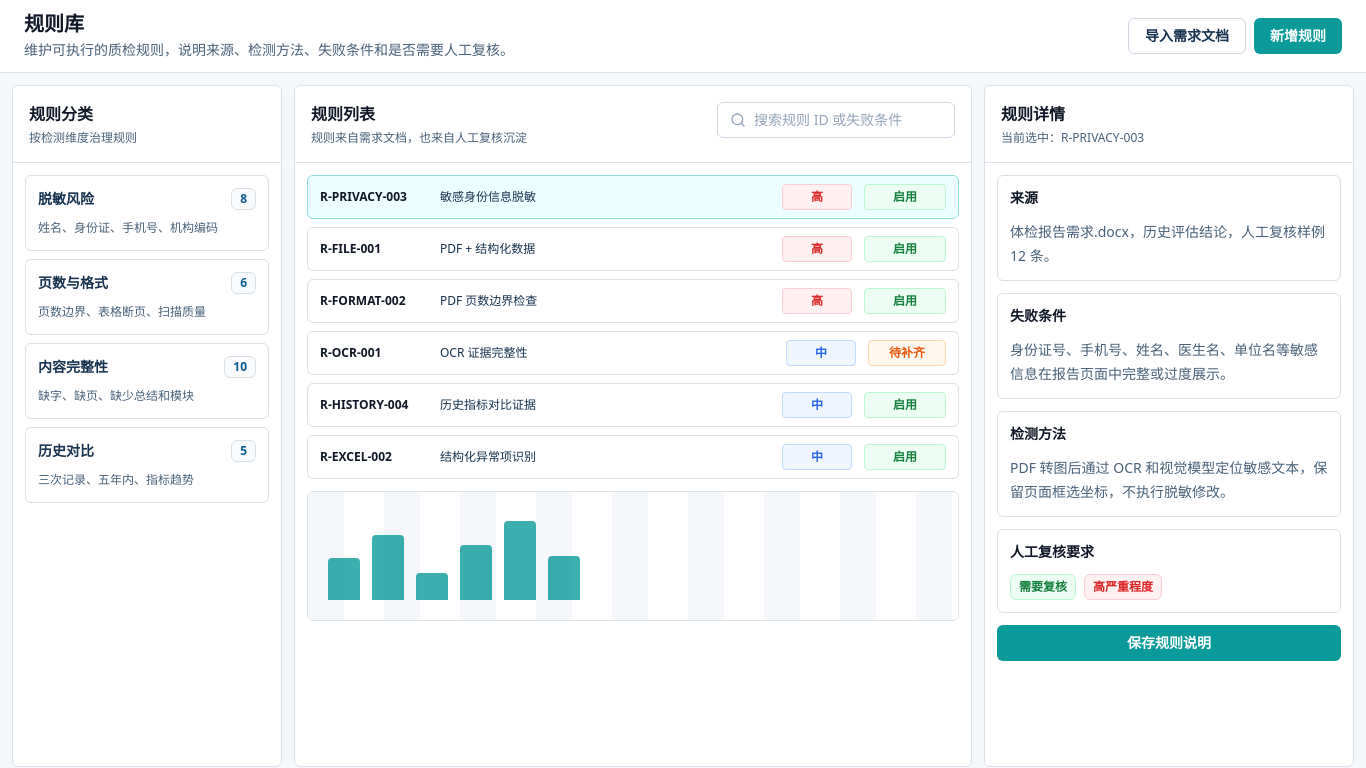
knowledge page › supports compact rule library interactions
Click the button "历史对比 5 三次记录、五年内、指标趋势" at (147, 465), box [25,427,269,503]
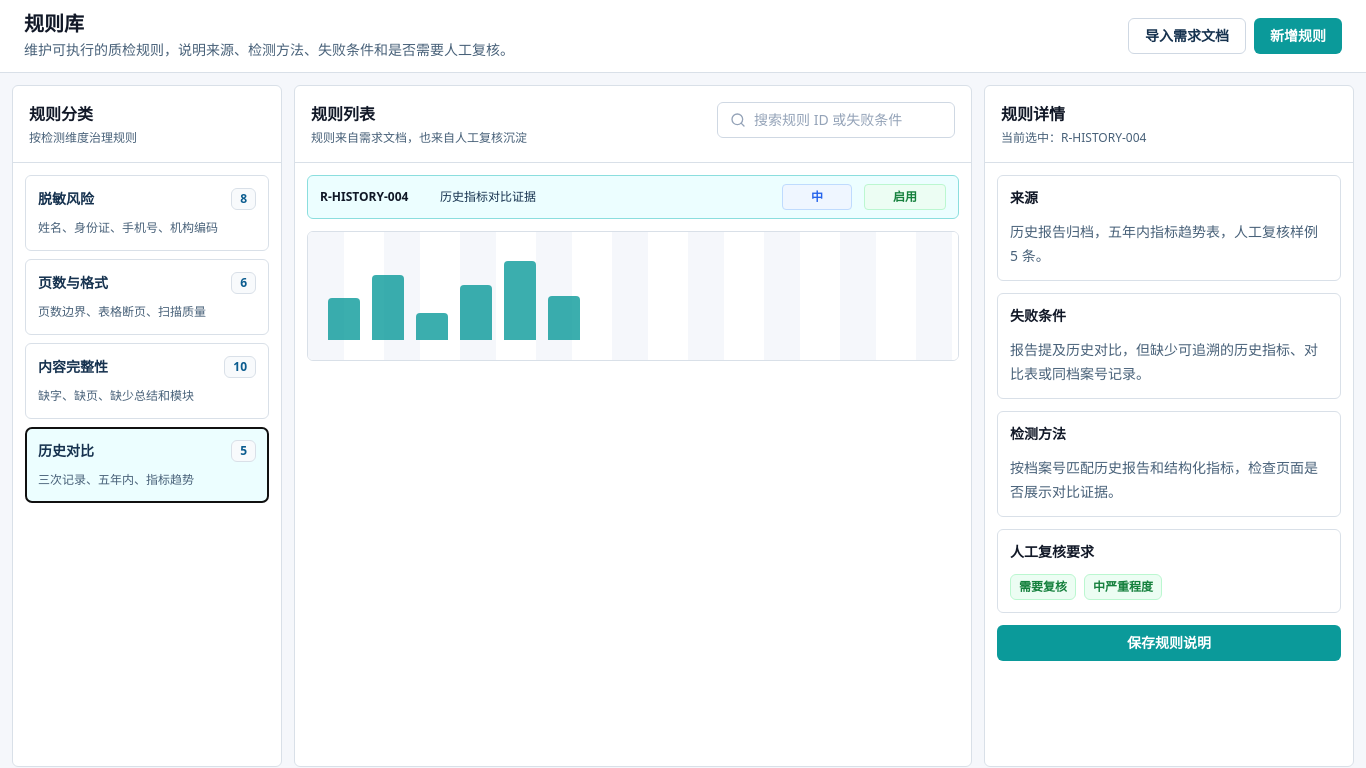
expect the button with aria-label "查看规则 R-HISTORY-004" is shown: met, box [320,189,770,205]
expect the button "R-PRIVACY-003" is gone: met
Type "OCR" into the field labelled "搜索规则" at (848, 120), box [754,110,942,130]
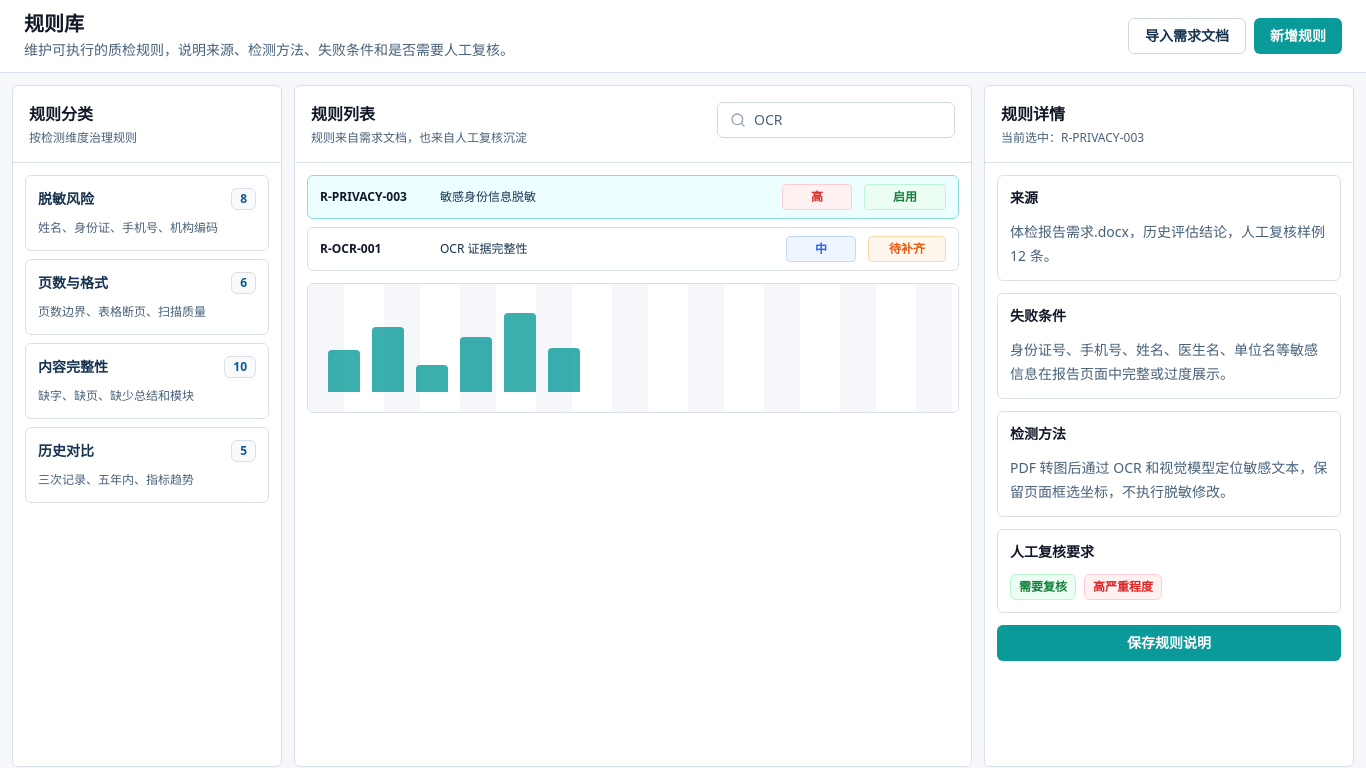
expect the button with aria-label "查看规则 R-OCR-001" is shown: met
Click the button with aria-label "查看规则 R-OCR-001" at (351, 248), box [320,241,774,257]
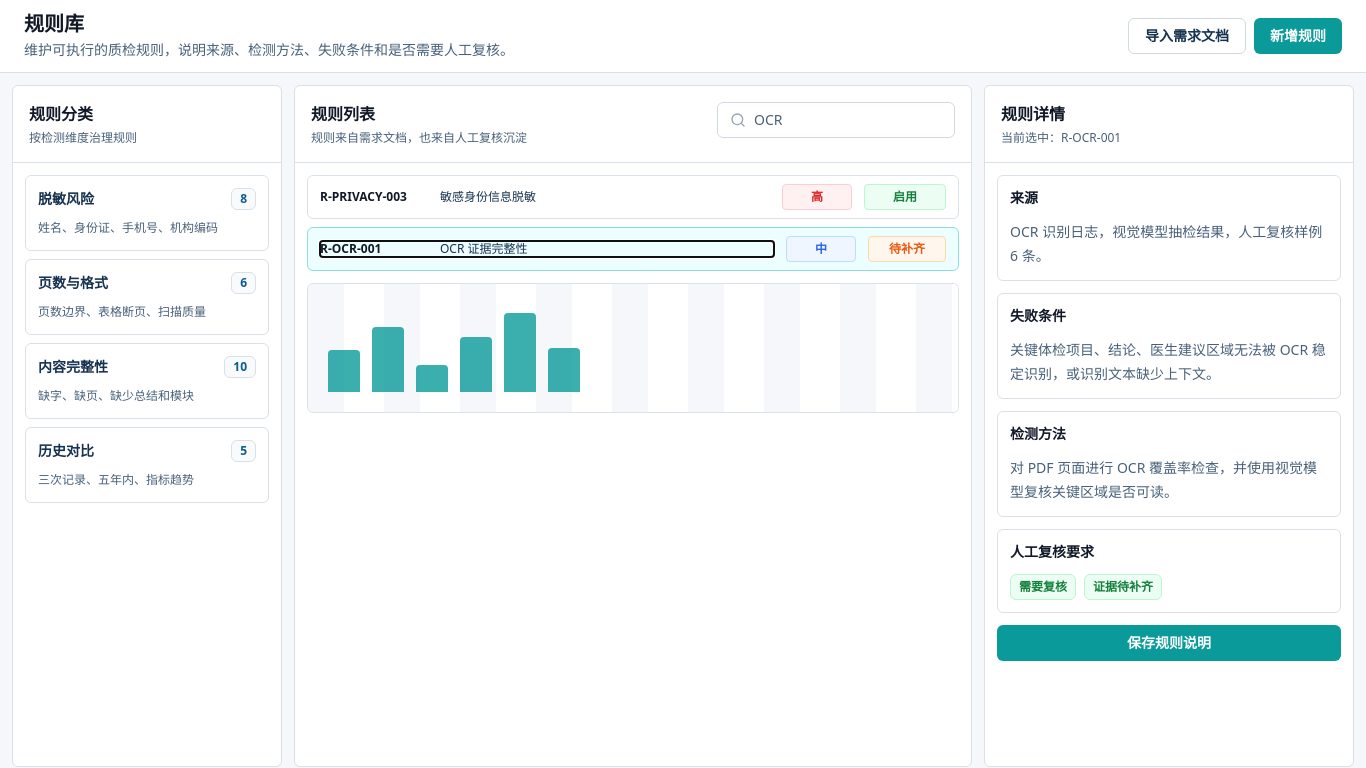
expect the text "OCR 证据完整性" is shown: met, box [440,240,528,257]
expect the text "当前选中：R-OCR-001" is shown: met, box [1001,129,1121,146]
Click the button with aria-label "切换 R-OCR-001 状态" at (907, 249), box [868,236,946,262]
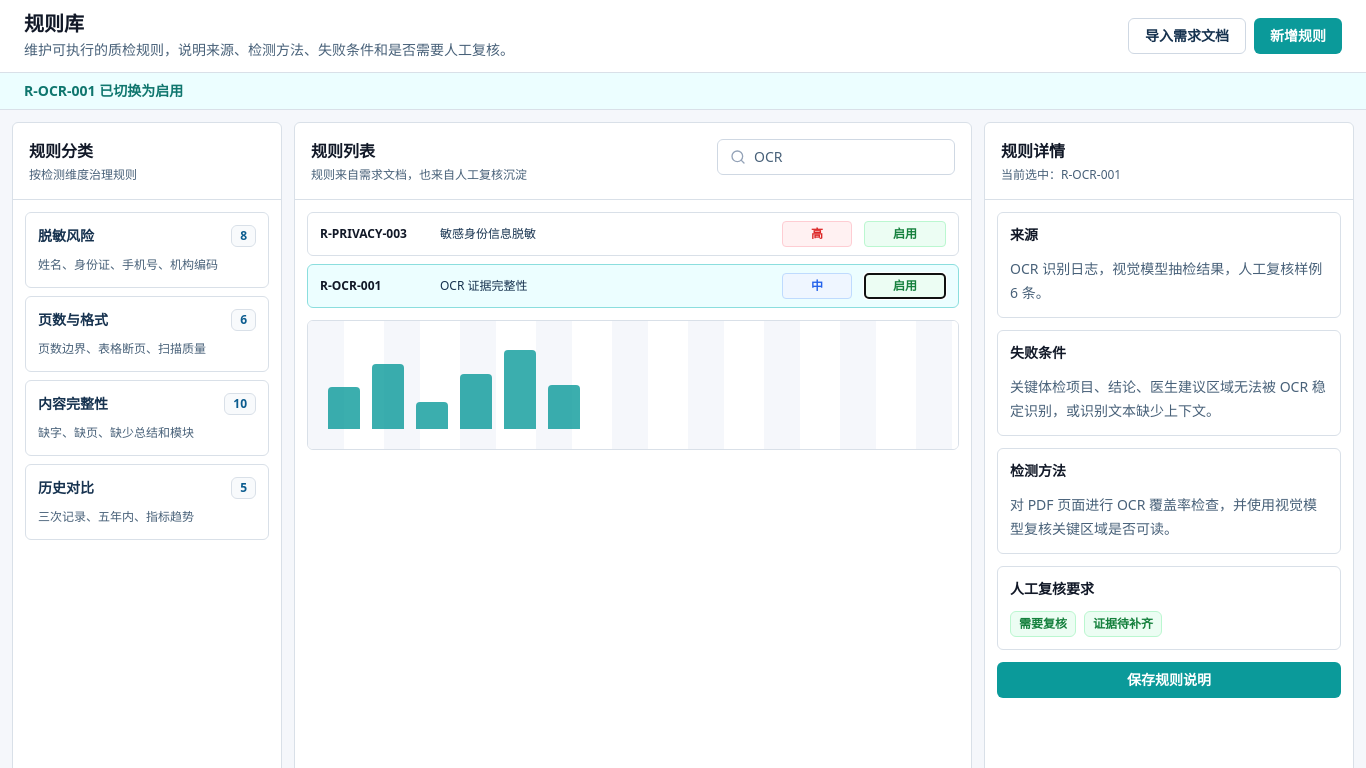
expect the button with aria-label "切换 R-OCR-001 状态" reads "启用": met, box [864,273,946,299]
